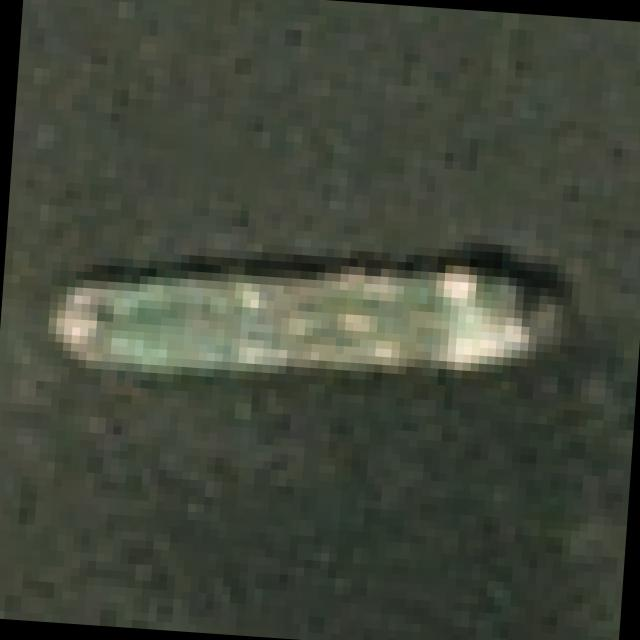ship: (31, 186, 582, 465)
